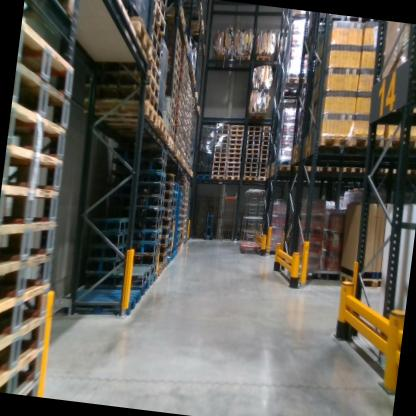pallet: (172, 124, 266, 183), (14, 19, 83, 98), (9, 58, 76, 136), (0, 275, 55, 363), (0, 307, 54, 396), (7, 96, 72, 164), (0, 248, 57, 325), (0, 212, 62, 281), (0, 177, 64, 241), (0, 141, 64, 200), (67, 282, 141, 320), (75, 94, 160, 125), (88, 104, 169, 136), (82, 260, 150, 293), (83, 81, 162, 109), (91, 69, 162, 98), (77, 235, 133, 264), (2, 351, 41, 390), (337, 269, 387, 299), (108, 153, 168, 178), (106, 173, 166, 198), (83, 206, 131, 237), (109, 165, 167, 188), (124, 13, 157, 52), (81, 225, 130, 249), (109, 142, 169, 161), (83, 250, 129, 274), (277, 71, 307, 100), (316, 130, 352, 154), (124, 243, 160, 266), (381, 134, 416, 157), (124, 191, 164, 211), (122, 199, 164, 218), (144, 29, 167, 63), (275, 156, 304, 180), (131, 224, 162, 246), (141, 57, 164, 86), (350, 134, 385, 153), (147, 13, 167, 45), (131, 233, 160, 255), (132, 213, 165, 232), (147, 1, 169, 29), (183, 17, 209, 38), (181, 0, 208, 20), (337, 160, 366, 178), (164, 25, 184, 50), (148, 40, 165, 68), (383, 162, 412, 178), (25, 0, 75, 9), (408, 51, 416, 107), (211, 49, 231, 71), (163, 8, 186, 27), (164, 47, 183, 69), (245, 108, 268, 126), (318, 163, 340, 180), (165, 37, 181, 58), (354, 162, 384, 173), (165, 57, 181, 77), (148, 0, 169, 15), (302, 160, 320, 177), (234, 53, 251, 71), (167, 76, 180, 98), (254, 51, 271, 67), (160, 123, 172, 145), (167, 115, 179, 133), (169, 69, 180, 88), (138, 281, 150, 297), (165, 125, 176, 142), (167, 90, 178, 107), (168, 105, 177, 125), (181, 33, 190, 53), (156, 252, 168, 267), (172, 116, 182, 134), (166, 136, 175, 154), (147, 274, 157, 290), (229, 122, 245, 132), (25, 384, 38, 396), (161, 195, 172, 209), (194, 173, 211, 182), (169, 96, 177, 115), (226, 167, 241, 177), (215, 121, 231, 130), (159, 235, 170, 248), (210, 164, 227, 172), (210, 174, 225, 183), (212, 160, 227, 169), (227, 141, 242, 150), (225, 160, 240, 169), (225, 173, 240, 182), (245, 137, 260, 146), (247, 123, 262, 132), (164, 172, 175, 184), (154, 264, 162, 280), (227, 136, 243, 144), (161, 225, 170, 239), (229, 132, 243, 141), (163, 181, 174, 192), (226, 163, 241, 171), (243, 170, 258, 178), (213, 147, 229, 154), (213, 142, 229, 149), (226, 152, 242, 159), (227, 155, 241, 163), (245, 147, 259, 155), (148, 0, 169, 5), (243, 167, 258, 174), (243, 162, 258, 169), (194, 102, 202, 115), (241, 176, 258, 182), (163, 190, 173, 200), (244, 157, 258, 164), (245, 144, 259, 151), (246, 135, 260, 142), (160, 243, 168, 255), (212, 156, 228, 162), (214, 129, 230, 135), (162, 218, 171, 228), (170, 191, 179, 201), (210, 170, 225, 176), (213, 152, 228, 158), (228, 147, 242, 153), (244, 153, 258, 159), (247, 131, 261, 137), (260, 144, 272, 151), (162, 208, 171, 217), (168, 215, 176, 225), (172, 143, 178, 156), (214, 137, 227, 143), (229, 130, 244, 135), (194, 90, 200, 102), (260, 150, 272, 156), (259, 166, 268, 174), (176, 110, 182, 122), (148, 264, 155, 274), (171, 182, 178, 192), (262, 124, 272, 131), (173, 137, 179, 148), (260, 139, 271, 145), (178, 152, 183, 165), (214, 133, 227, 138), (165, 240, 173, 248), (170, 200, 177, 209), (175, 149, 180, 161), (161, 261, 166, 273), (166, 247, 172, 257), (165, 257, 170, 268), (262, 131, 273, 136), (167, 224, 173, 233), (261, 135, 271, 140), (169, 209, 177, 215), (166, 233, 172, 241), (260, 155, 268, 160), (260, 159, 268, 164), (259, 163, 268, 167), (259, 173, 265, 177)
